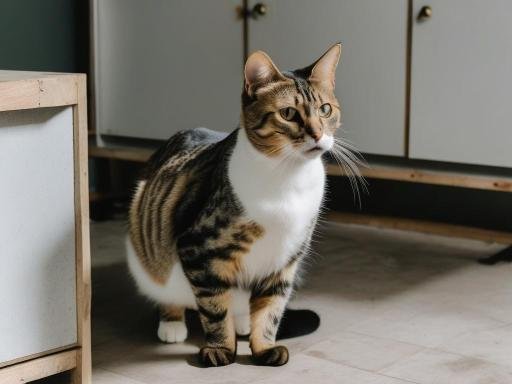cat_standing: (126, 44, 340, 366)
